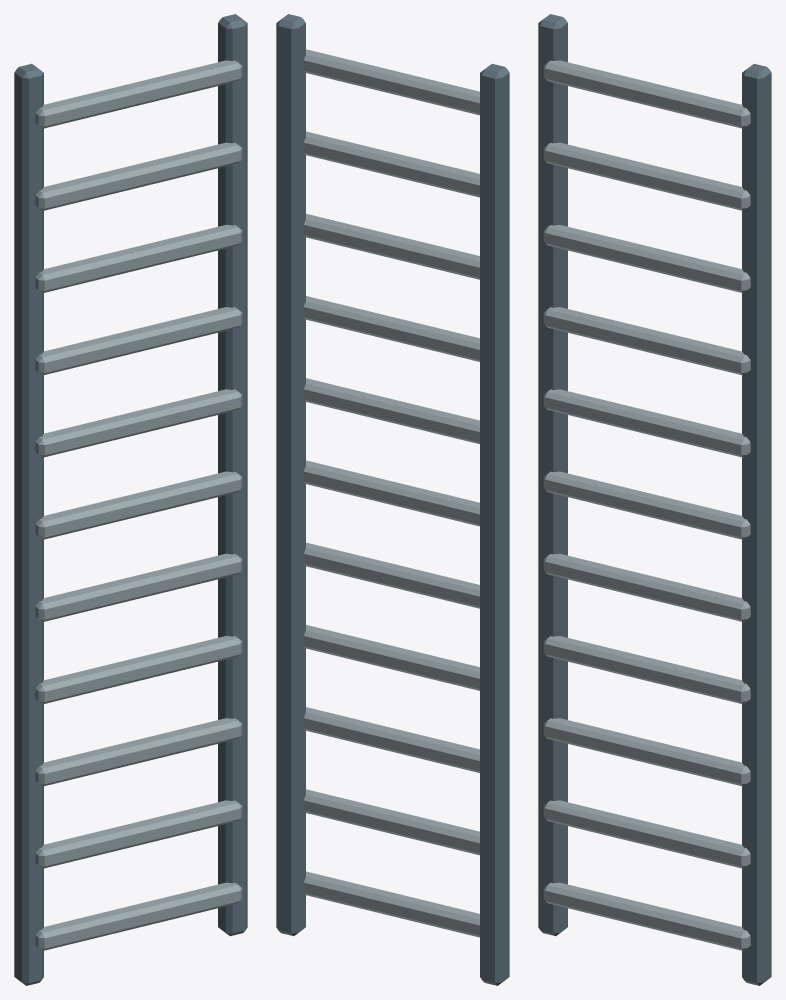
File: architecture-ladder.lod0.glb
The picture shows the model from 3 angles, left to right: view 1: azimuth 30°, elevation 25°; view 2: azimuth 150°, elevation 25°; view 3: azimuth 330°, elevation 25°; orthographic projection.
Visible parts, largest first — view 1: architecture-ladder__body; view 2: architecture-ladder__body; view 3: architecture-ladder__body.
Boxes of the visible parts, x1=… form: architecture-ladder__body: x1=14, y1=14, x2=247, y2=985; architecture-ladder__body: x1=276, y1=14, x2=509, y2=985; architecture-ladder__body: x1=538, y1=14, x2=771, y2=985.
Size of the model in its own units: 0.775 by 3 by 0.1075.
